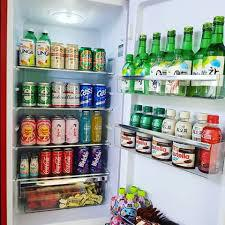soju: (118, 15, 225, 95)
